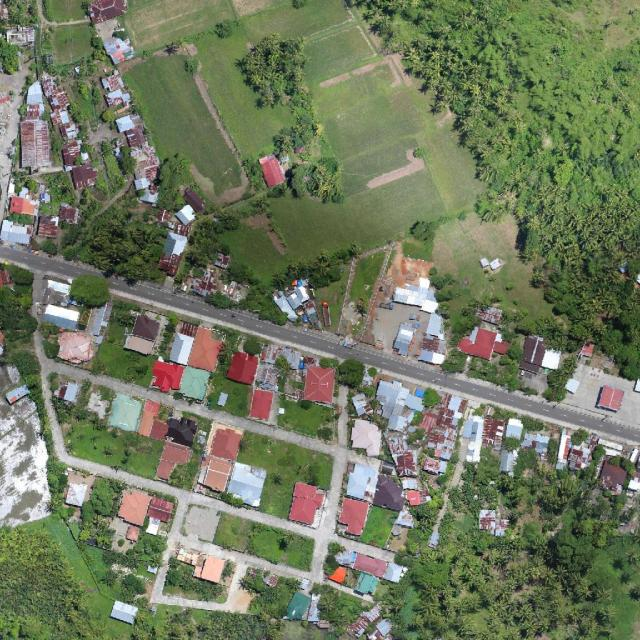building: (19, 73, 81, 168)
greenland: (222, 0, 490, 274), (224, 32, 327, 162), (0, 528, 108, 639), (226, 431, 338, 528), (54, 407, 166, 479), (431, 208, 521, 273), (291, 160, 341, 202), (211, 512, 255, 555), (238, 143, 265, 192), (452, 515, 479, 535)
metalled_road: (169, 489, 254, 559), (32, 332, 73, 467), (320, 386, 357, 535), (203, 370, 257, 420), (7, 345, 43, 384)
